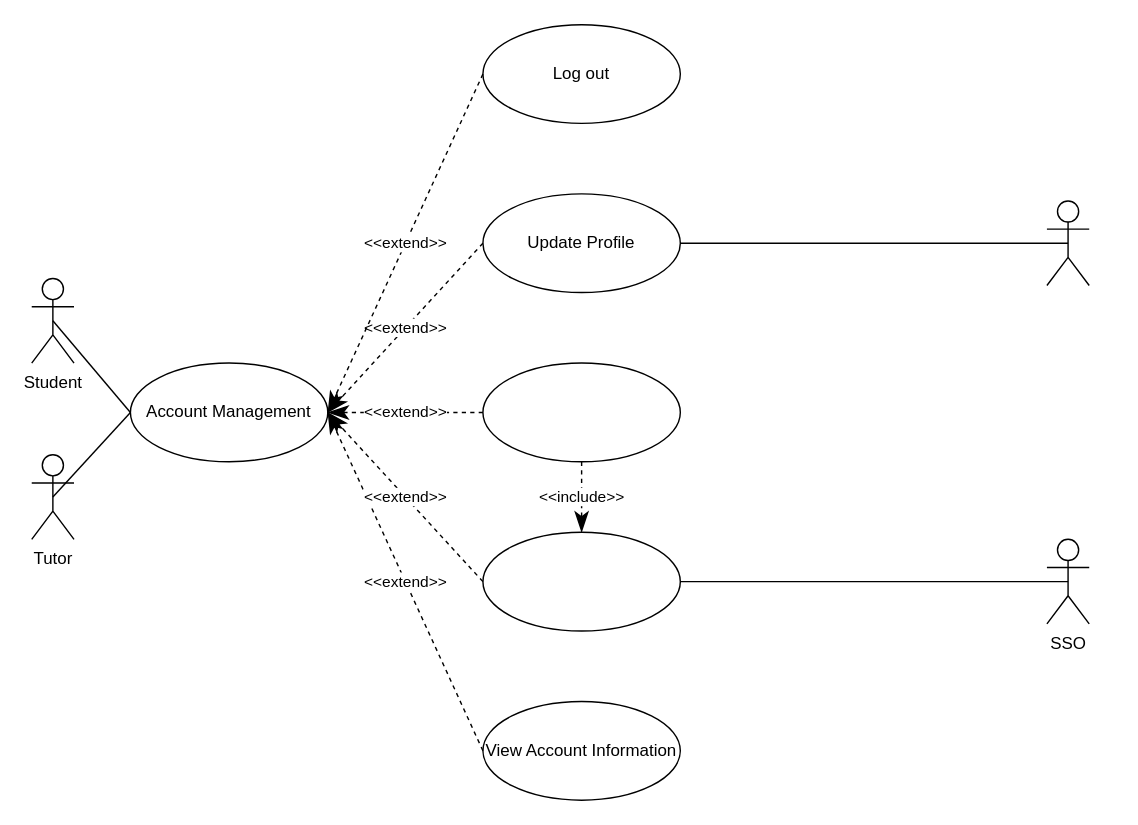
Image size: 1138x825. Some labels were removed from this diagram. The shapes that lost their labels are listed below. From the top down, each one's centre as x and y in pixels, then its label:
At (1067,243): "DATACORE".
At (581,412): "Forgot Password".
At (581,581): "Change Password".
